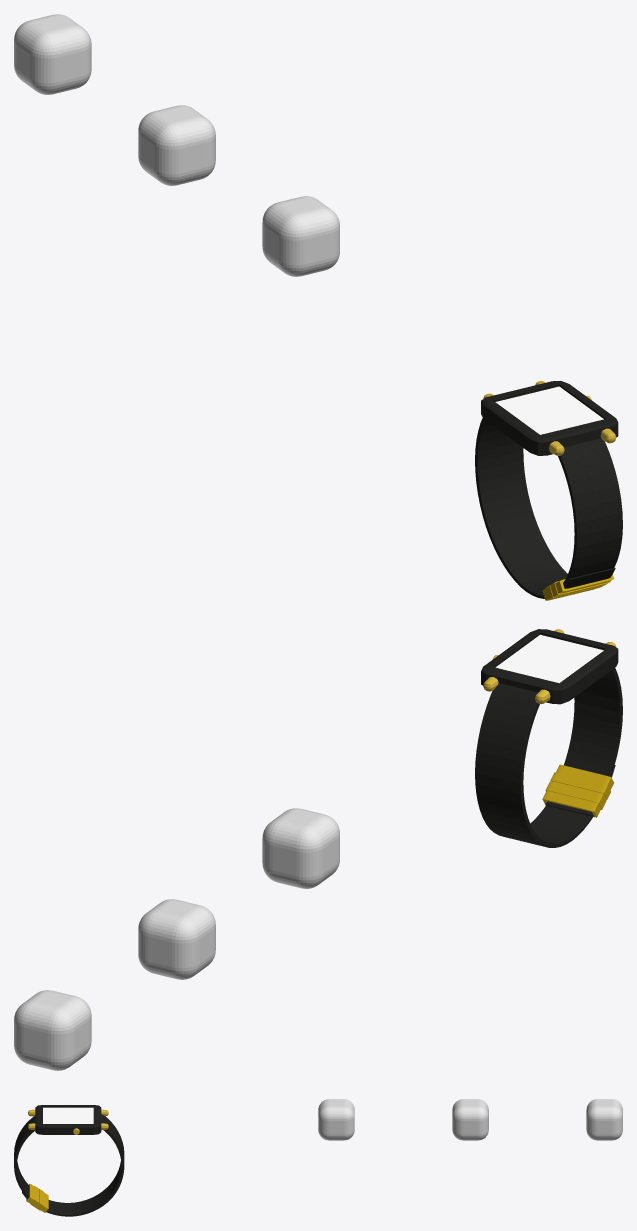
File: watch1.glb
3 views of the same model, one above another, from view 1: azimuth 30°, elevation 25°; view 2: azimuth 150°, elevation 25°; view 3: azimuth 270°, elevation 25° (orthographic). The views are drawn at different scales.
Visible parts, largest first — view 1: Cube.008, Cube.004, Cube.005, Cube.003; view 2: Cube.008, Cube.004, Cube.005, Cube.003; view 3: Cube.008, Cube.004, Cube.003, Cube.005.
Part boxes in pixels (x1,y1,x2,y2): Cube.008: (475,381,622,600); Cube.004: (138,105,215,185); Cube.005: (14,14,91,94); Cube.003: (262,196,339,276); Cube.008: (475,629,622,847); Cube.004: (138,899,215,979); Cube.005: (14,990,91,1070); Cube.003: (262,808,339,888); Cube.008: (14,1105,124,1216); Cube.004: (452,1099,488,1140); Cube.003: (318,1099,354,1140); Cube.005: (586,1099,622,1140).
Bounding box in the file's own units: 0.421 × 0.8836 × 4.54.
4 materials, 3 textured.
